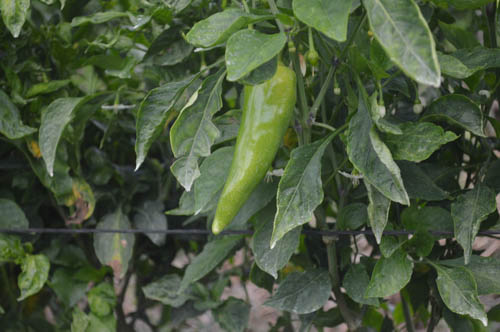ChiliPepper: (214, 70, 294, 242)
